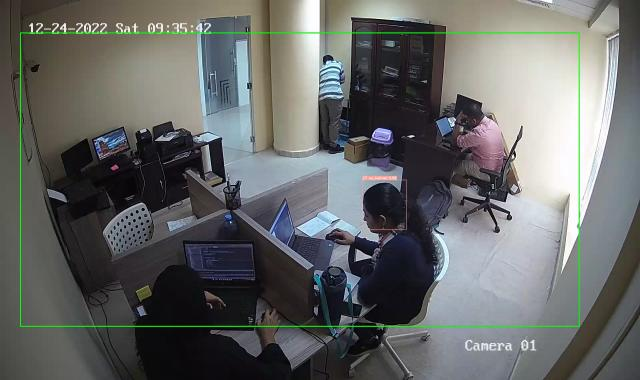no_hairnet: (151, 266, 207, 328), (364, 180, 406, 236), (461, 102, 483, 128), (322, 54, 332, 65)
